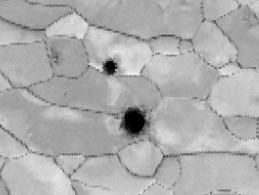good_void: (116, 107, 149, 137), (100, 57, 120, 80), (48, 43, 65, 67), (63, 90, 70, 97)
